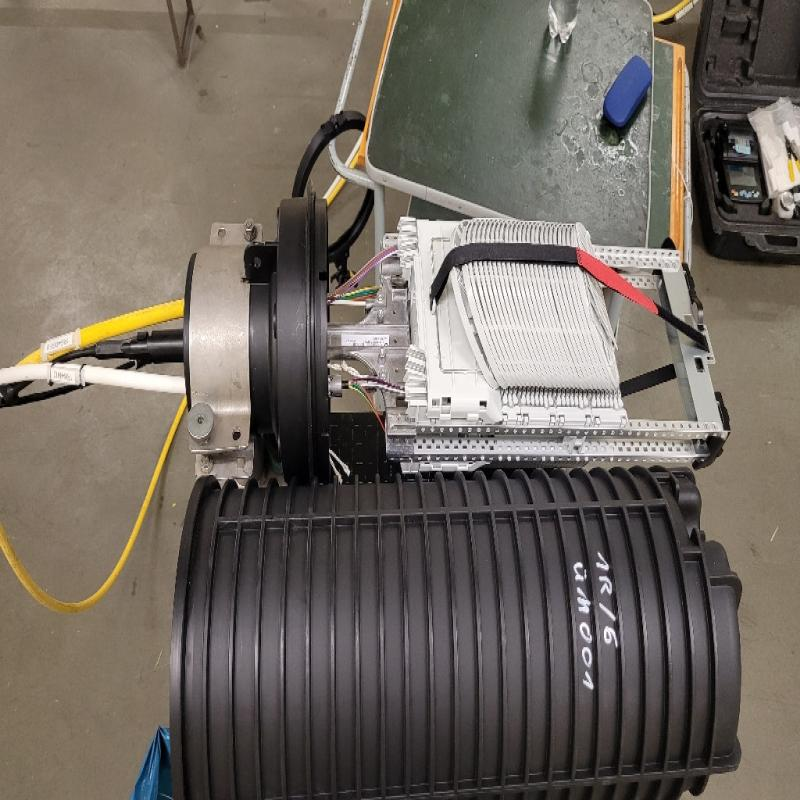NT-Muffen: (166, 466, 745, 800), (109, 188, 727, 487)
